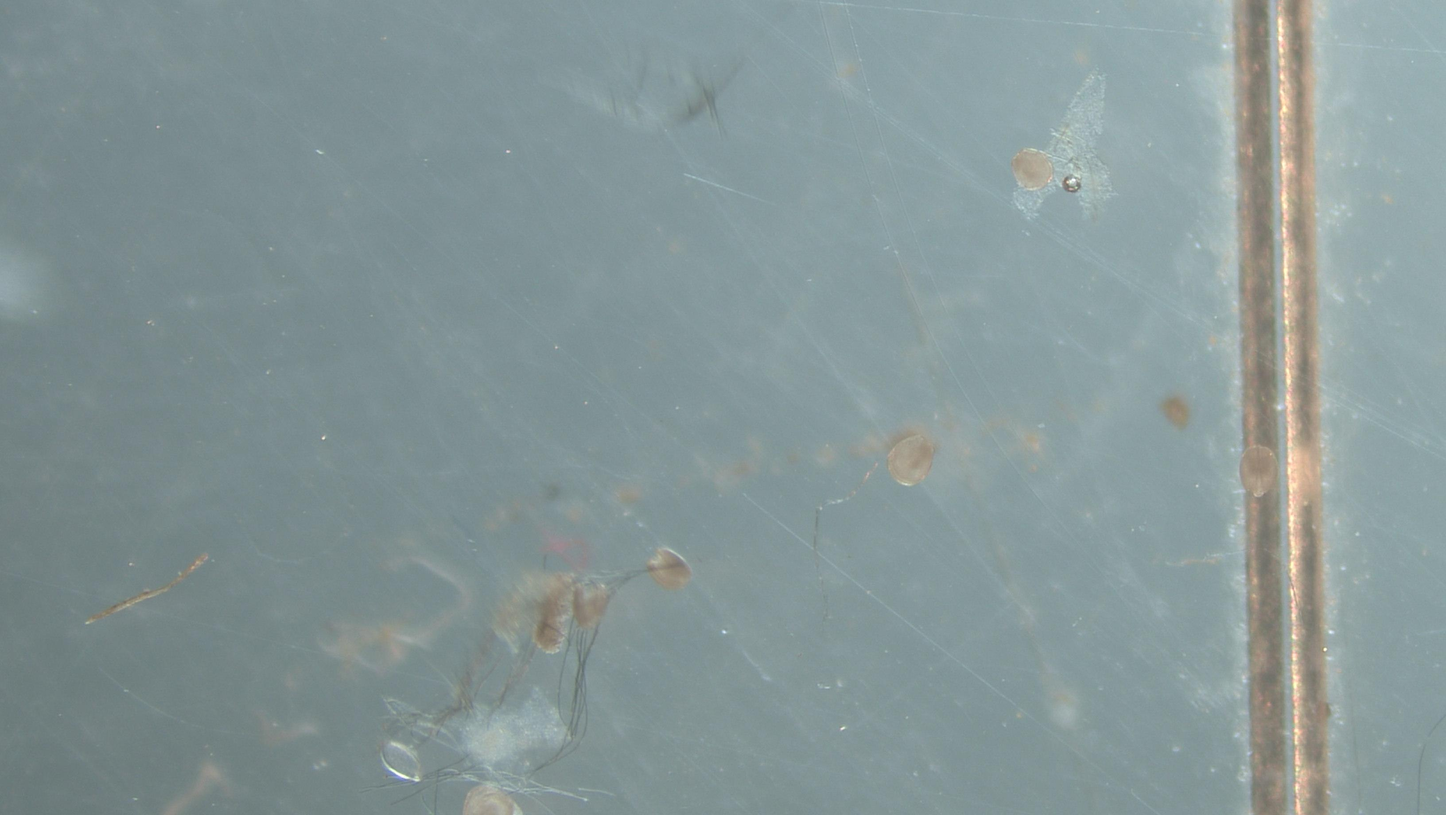dead: (381, 741, 421, 783)
live: (888, 434, 935, 486), (1240, 445, 1277, 497), (647, 547, 692, 589), (1011, 149, 1054, 190)
